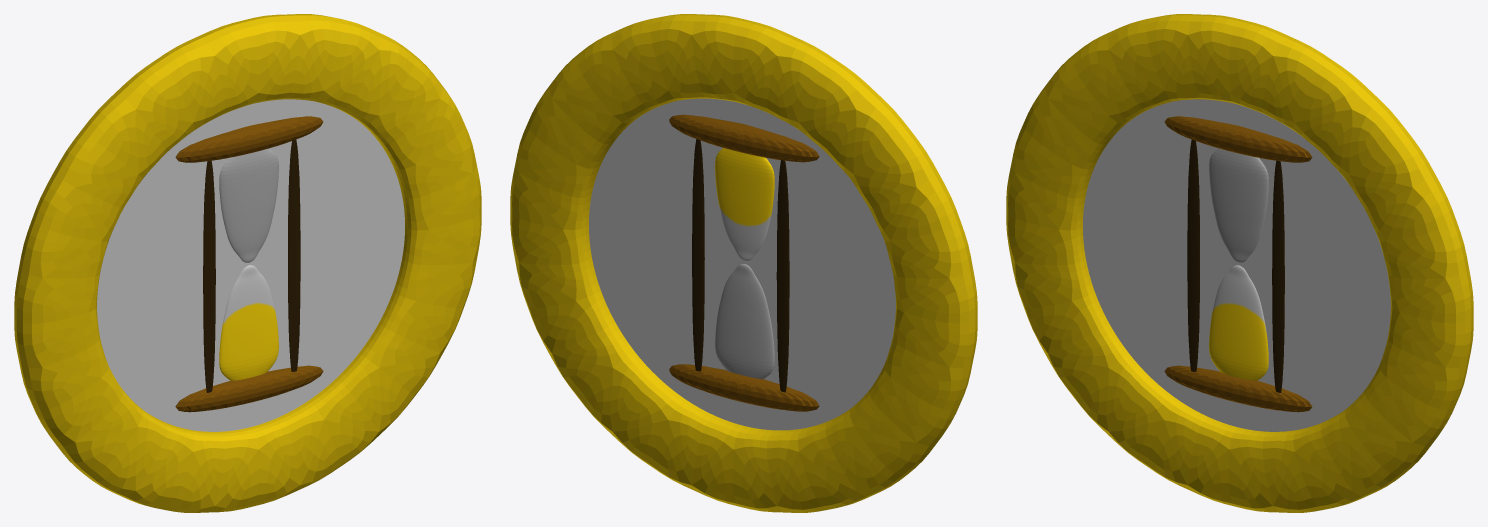
File: MoedaEscuraFinal.fbx
The picture shows the model from 3 angles, left to right: view 1: azimuth 30°, elevation 25°; view 2: azimuth 150°, elevation 25°; view 3: azimuth 330°, elevation 25°; orthographic projection.
Parts seen in each view (by area): view 1: Circle.000, Circle.002, Cylinder.002, Cylinder.005, Cylinder.001, Cylinder.000; view 2: Circle.000, Circle.002, Cylinder.002, Cylinder.005, Cylinder.003, Cylinder.004; view 3: Circle.000, Circle.002, Cylinder.002, Cylinder.005, Cylinder.001, Cylinder.000.
Part boxes in pixels (box(x1,y1,x2,y2)): Circle.000: box(14, 14, 481, 512); Circle.002: box(97, 99, 404, 431); Cylinder.002: box(175, 116, 323, 412); Cylinder.005: box(203, 139, 300, 392); Cylinder.001: box(219, 265, 278, 380); Cylinder.000: box(219, 148, 278, 262); Circle.000: box(510, 14, 977, 512); Circle.002: box(589, 98, 895, 430); Cylinder.002: box(669, 114, 819, 411); Cylinder.005: box(692, 139, 789, 392); Cylinder.003: box(715, 264, 774, 379); Cylinder.004: box(715, 148, 774, 261); Circle.000: box(1006, 14, 1473, 512); Circle.002: box(1083, 99, 1390, 431); Cylinder.002: box(1164, 116, 1312, 412); Cylinder.005: box(1187, 139, 1284, 392); Cylinder.001: box(1209, 265, 1268, 380); Cylinder.000: box(1209, 148, 1268, 262).
Bounding box in the file's own units: 197 × 197 × 16.7.
